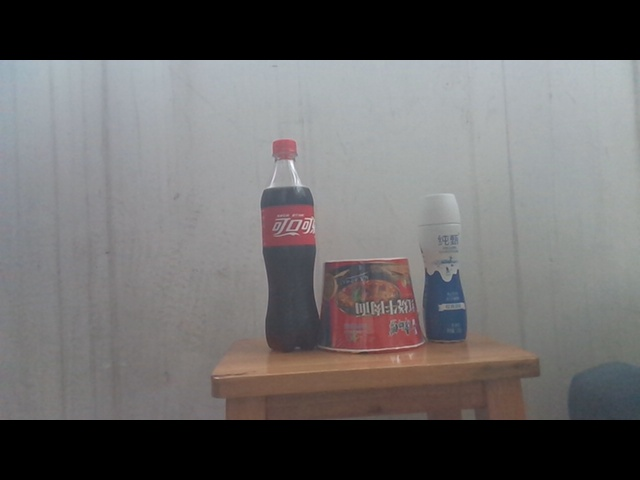cola: (260, 138, 323, 354)
kangshifu: (323, 257, 428, 351)
yogurt: (417, 192, 470, 344)
